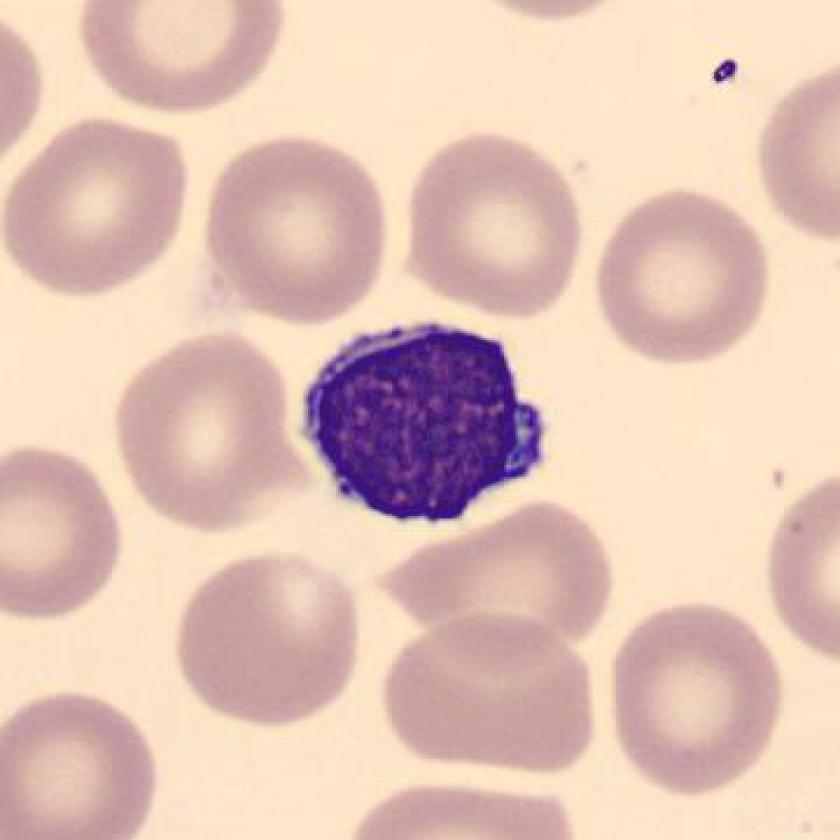lymphocyte: (286, 309, 570, 547)
